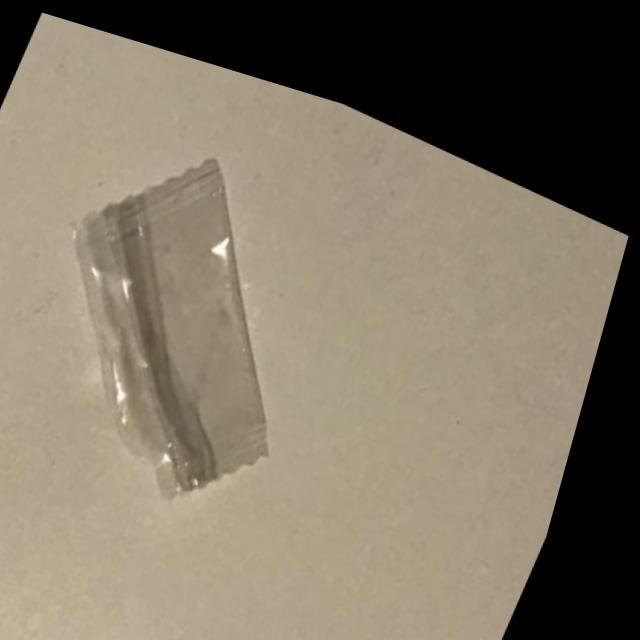trash: (0, 54, 459, 593)
